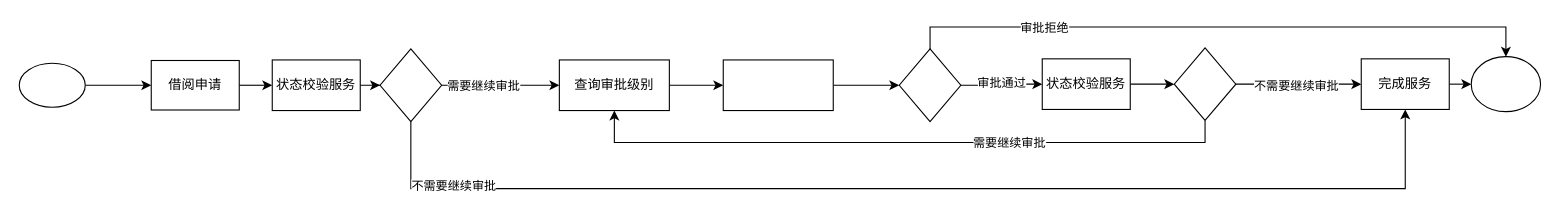
The diagram is 1560 pixels wide and 217 high, and some of its shapes have lost their labels. The shapes that lost their labels are listed below. From the top down, each one's centre as x and y in pixels, then its label:
At pixel 51 84: "开始".
At pixel 777 85: "用户审批".
At pixel 1505 84: "结束".
